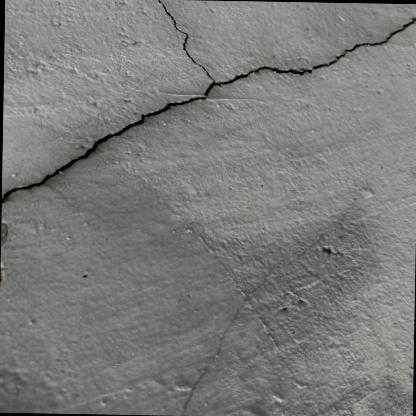crack: (0, 0, 416, 203)
